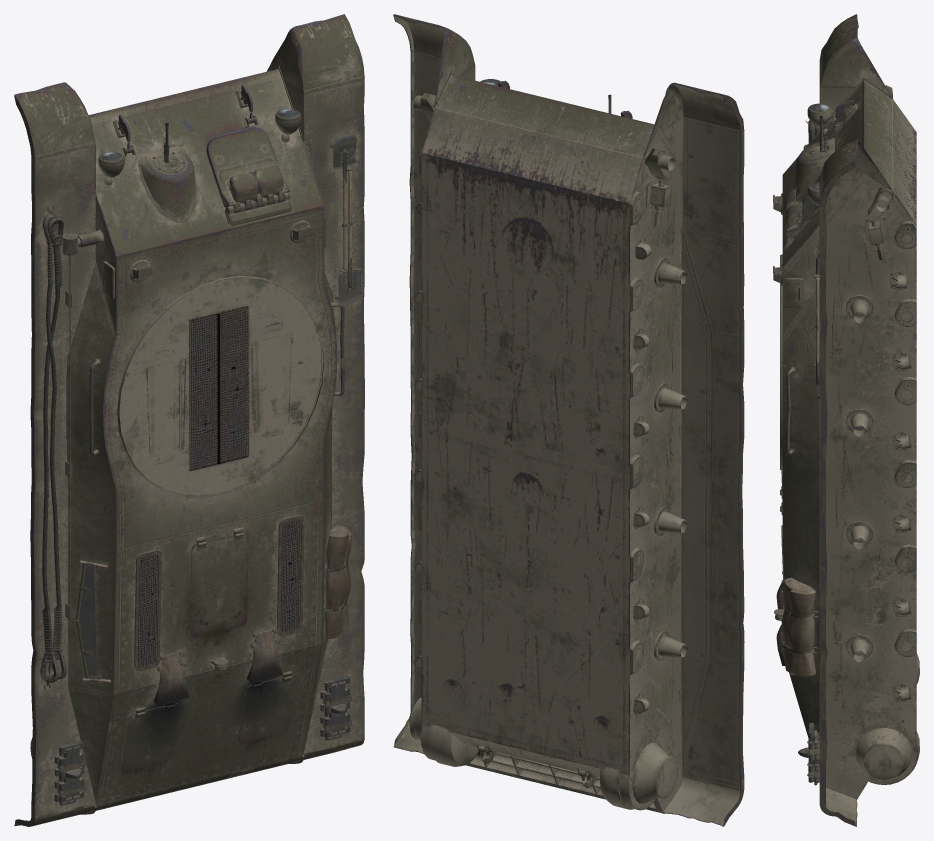
File: Hull.glb
The picture shows the model from 3 angles, left to right: view 1: azimuth 30°, elevation 25°; view 2: azimuth 150°, elevation 25°; view 3: azimuth 270°, elevation 25°; orthographic projection. The views are drawn at different scales.
Parts seen in each view (by area): view 1: set_0_group_0; view 2: set_0_group_0; view 3: set_0_group_0.
Boxes of the visible parts, x1=… form: set_0_group_0: x1=14, y1=14, x2=364, y2=826; set_0_group_0: x1=393, y1=14, x2=744, y2=826; set_0_group_0: x1=773, y1=14, x2=919, y2=826.
Size of the model in its own units: 2.89 by 6.14 by 1.22.
Materials: 1 (1 with a texture image).
